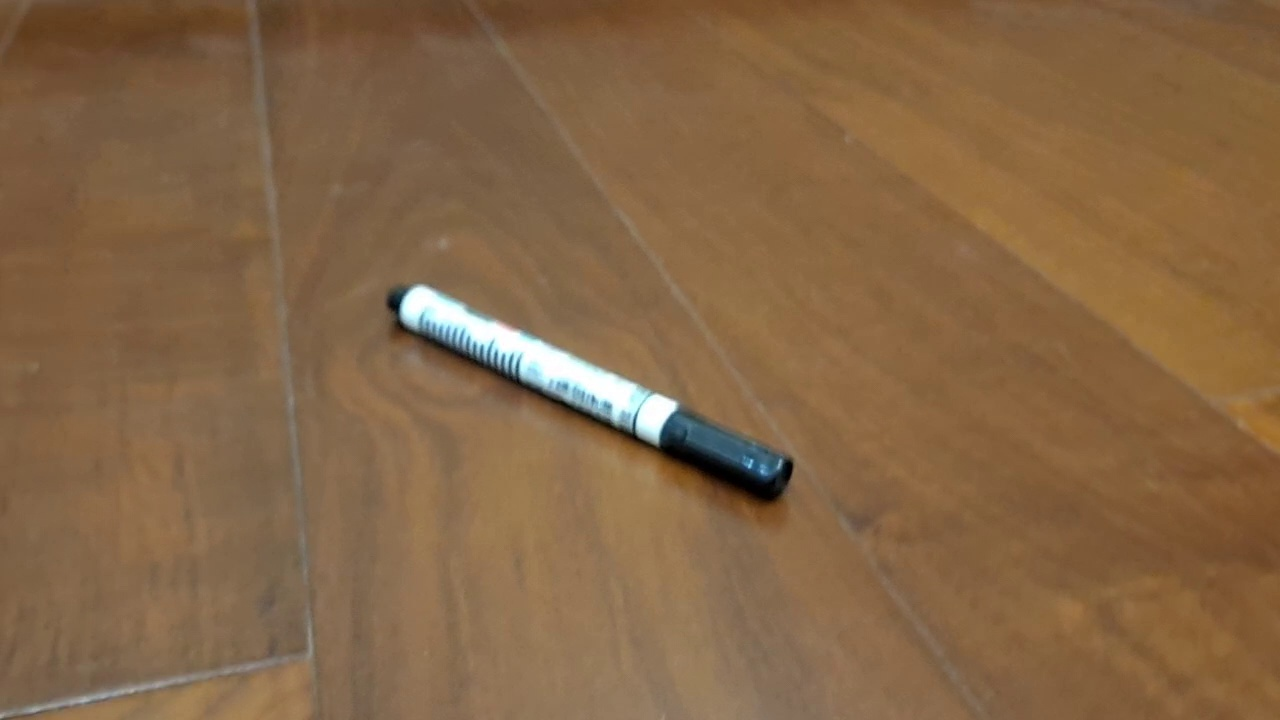pen: (386, 283, 794, 503)
